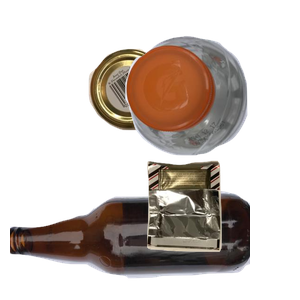glass: (10, 188, 250, 300)
metal: (86, 46, 248, 169)
plastic: (123, 33, 300, 181)
trash: (144, 158, 300, 300)
